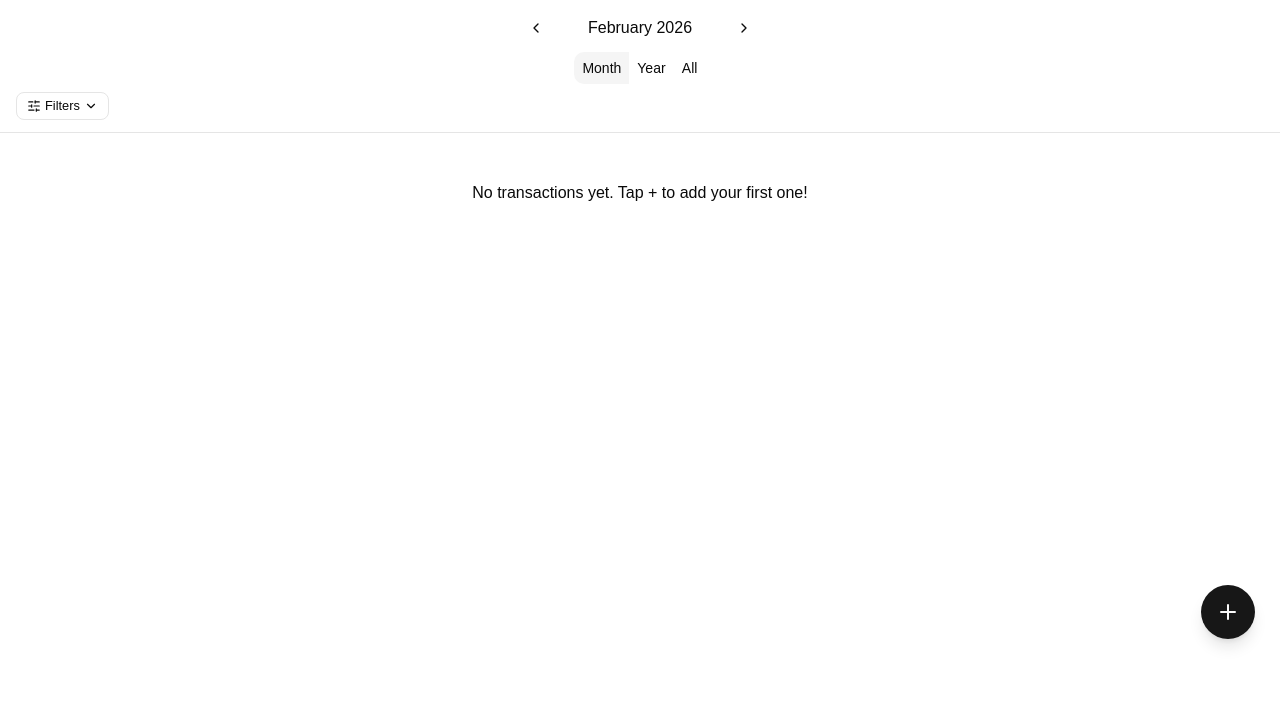
Test case: TransactionsPage › shows the filter-specific empty message when filters are applied with no results
Click the button "Filters": x=62, y=106 [16,92,109,120]
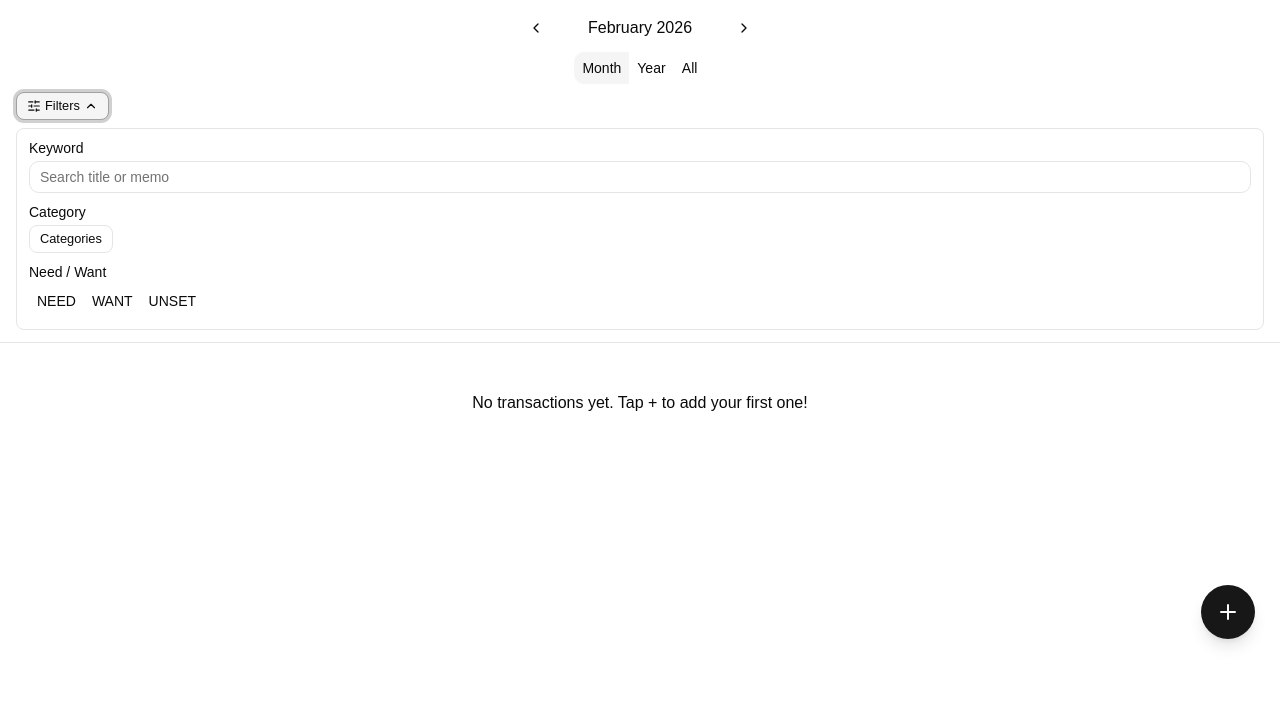
In the search field labelled "Keyword": x=640, y=177 [29,161,1251,193], type "nothing"
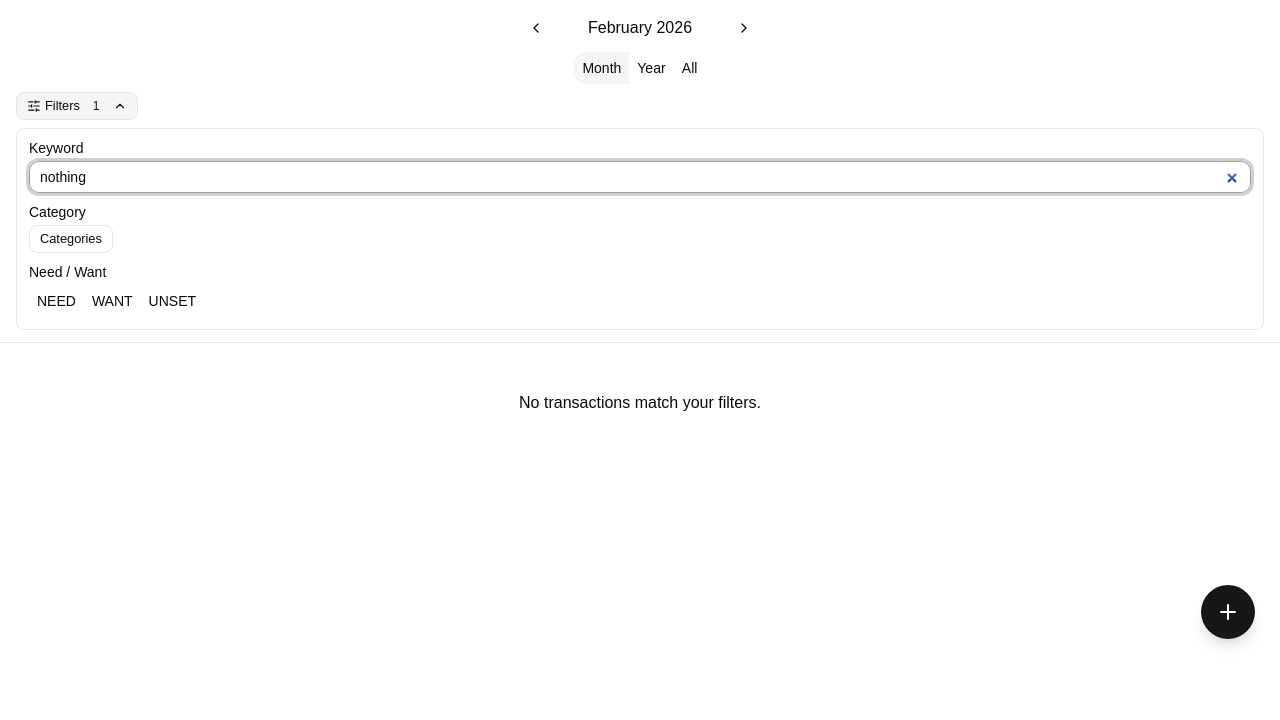
Expected: the text "No transactions match your filters." is shown, [519,391,761,415]
Expected: the text "No transactions yet. Tap + to add your first one!" is gone
